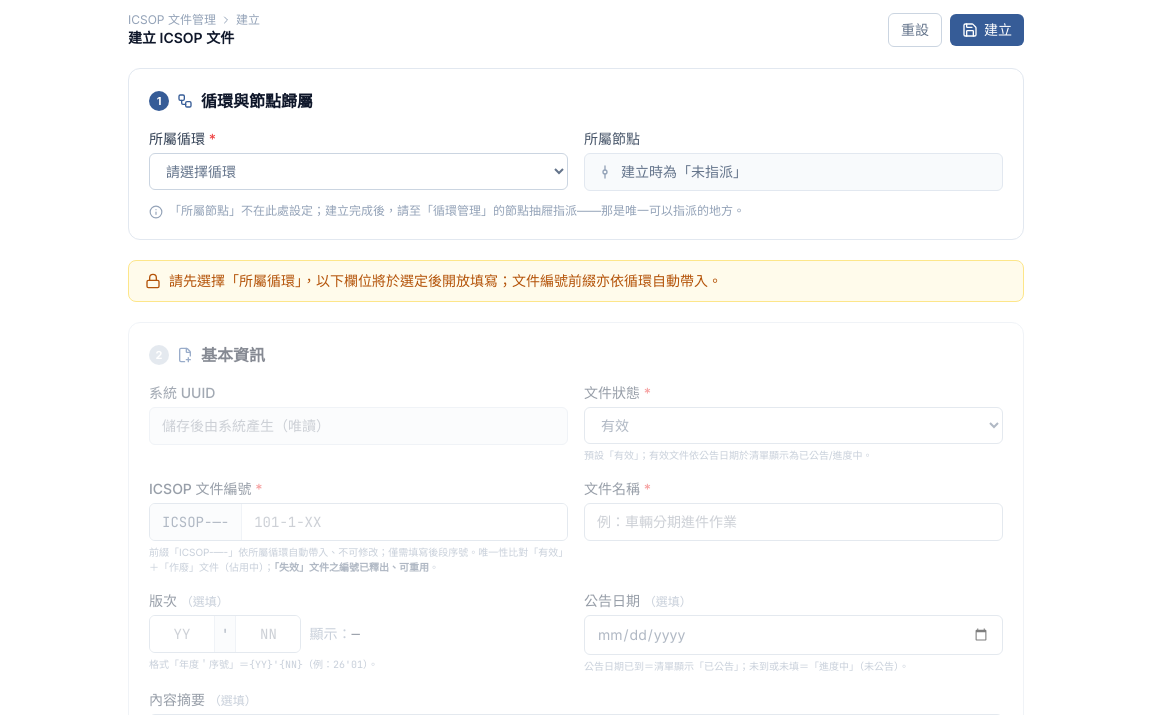
F011 AC-D2～AC-D5（建立頁）：版次輸入互動，逐案與編輯頁相同 › TS-F010-D3-001 序號框值為 "1" → blur **之前**維持 "1"、blur **之後**為 "01"
The width and height of the screenshot is (1152, 715).
Type "1" into the field named "版次序號". click: point(268, 634)
box: x1=236 y1=616 x2=300 y2=652
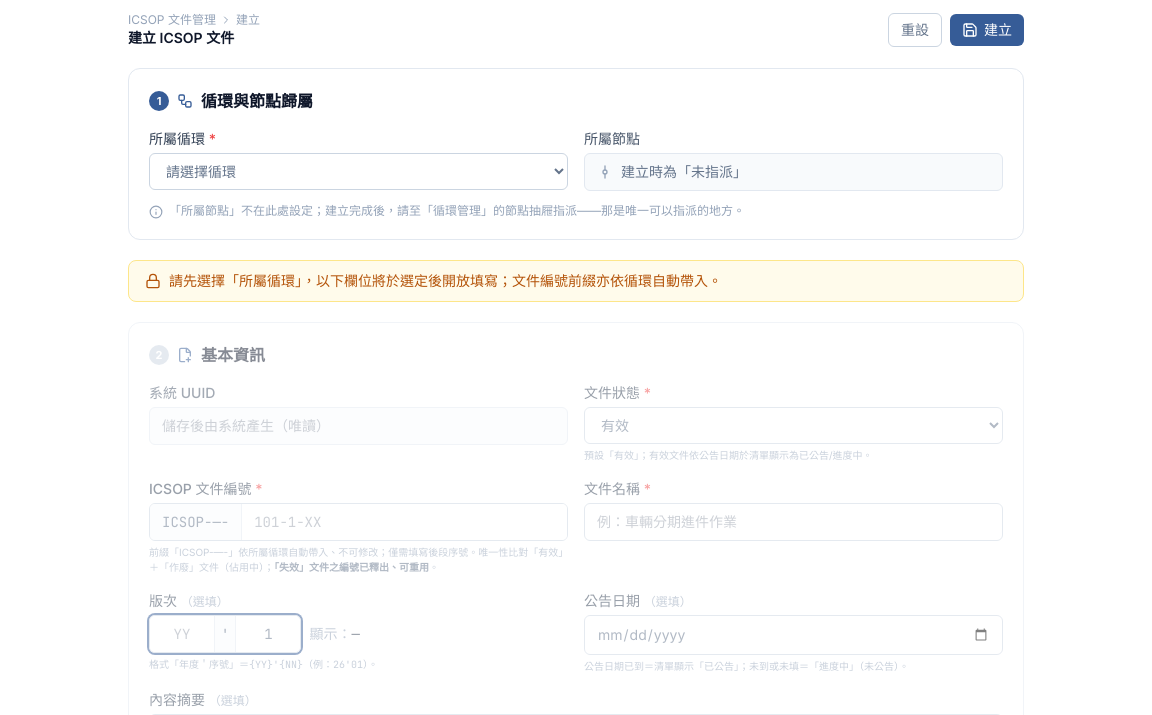
Press Tab
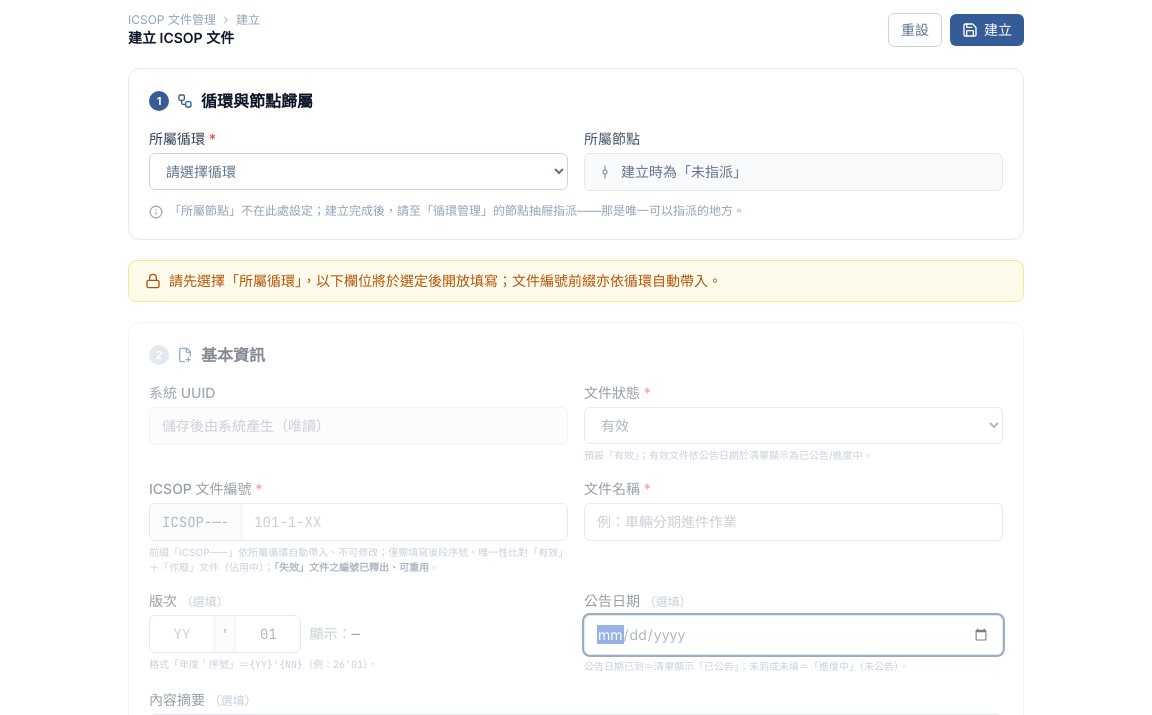
Expected: the field named "版次序號" holds "01", x1=236 y1=616 x2=300 y2=652
